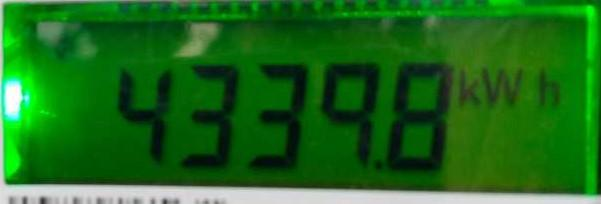.: (457, 65, 563, 112)
0: (371, 159, 385, 171)
4: (180, 61, 241, 169)
5: (111, 65, 178, 165)
7: (243, 61, 312, 171)
9: (386, 66, 456, 166)
:: (315, 60, 383, 171)
